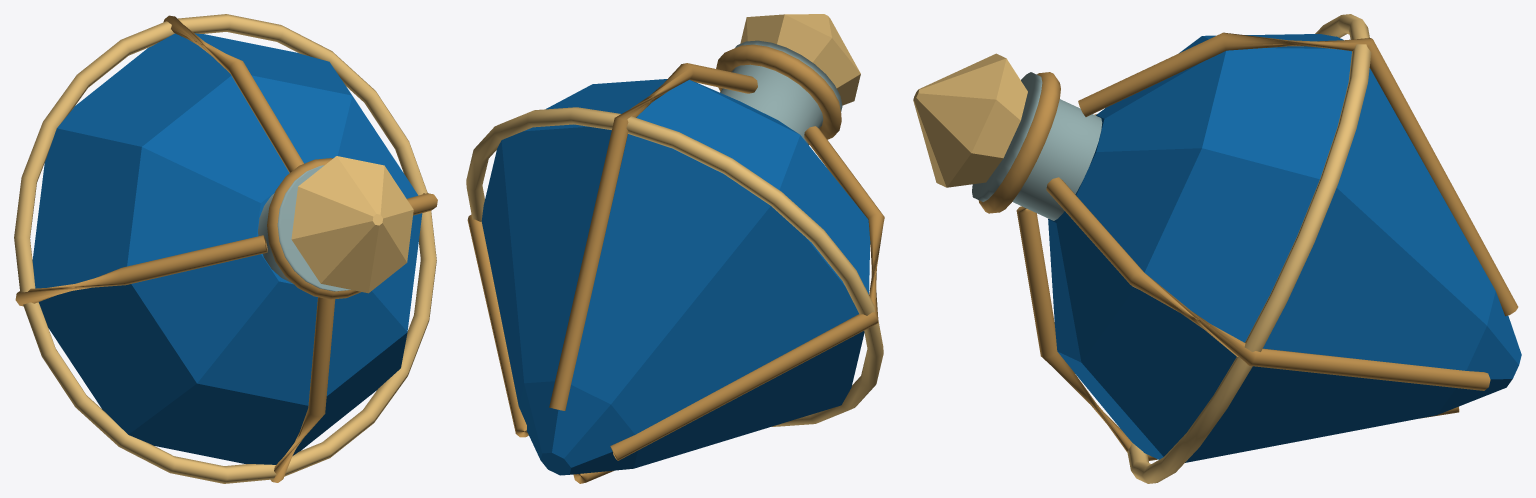
Rendered from full_mana.glb.
3 renders of one model, left to right at view 1: azimuth 30°, elevation 25°; view 2: azimuth 150°, elevation 25°; view 3: azimuth 270°, elevation 25°, orthographic. The views are drawn at different scales.
Parts seen in each view (by area): view 1: SM_full_mana; view 2: SM_full_mana; view 3: SM_full_mana.
Boxes of the visible parts, bbox=[...] form: SM_full_mana: bbox=[14, 14, 437, 483]; SM_full_mana: bbox=[466, 14, 884, 483]; SM_full_mana: bbox=[913, 14, 1521, 483].
Bounding box in the file's own units: 0.3213 × 0.2904 × 0.3726.
